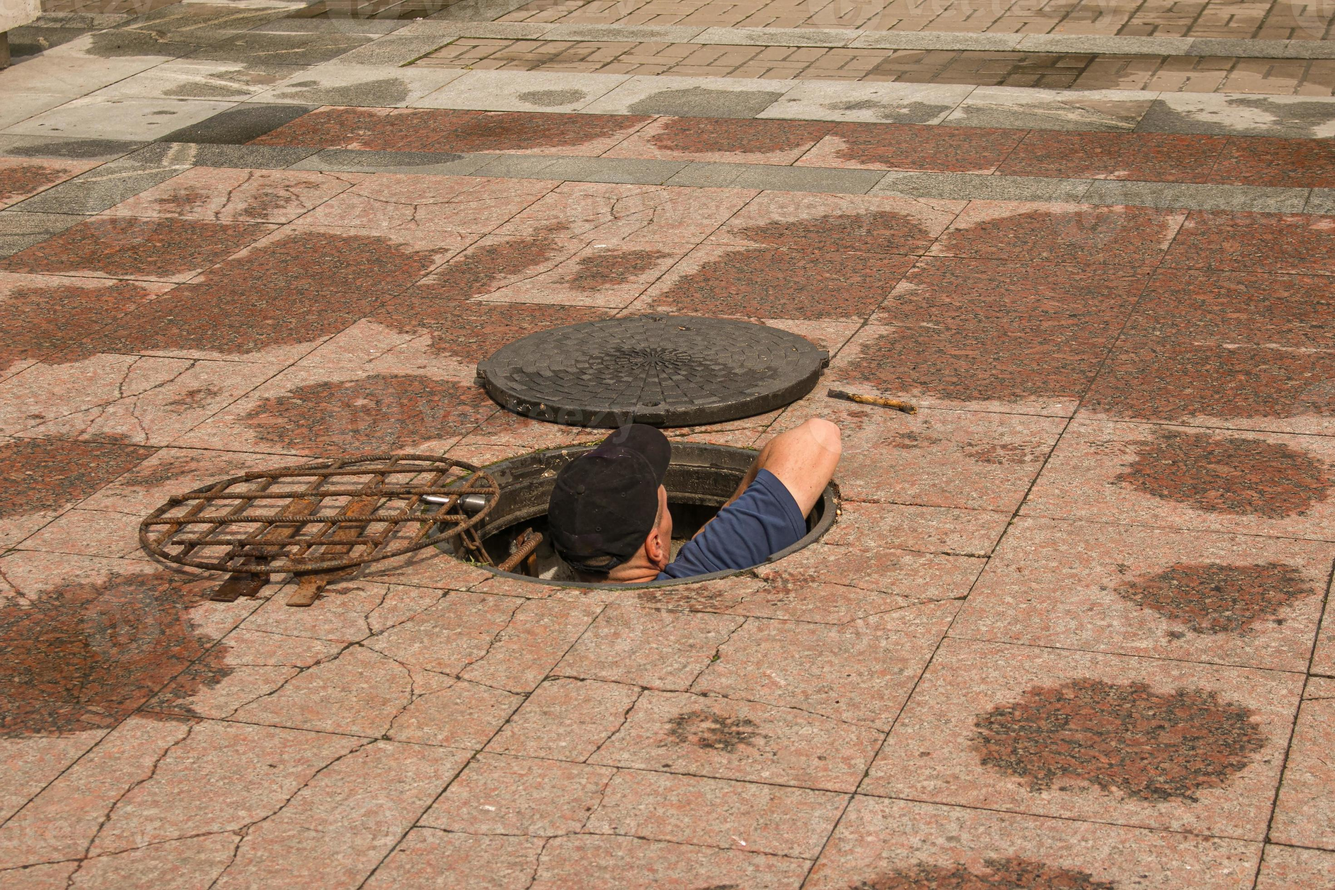Open_manhole: (130, 300, 891, 644)
